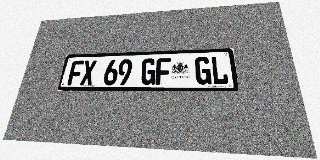6: (103, 59, 119, 85)
9: (116, 59, 133, 85)
F: (155, 58, 171, 85), (67, 60, 84, 85)
G: (195, 56, 212, 85), (140, 58, 156, 85)
L: (210, 56, 229, 85)
X: (80, 60, 97, 85)
